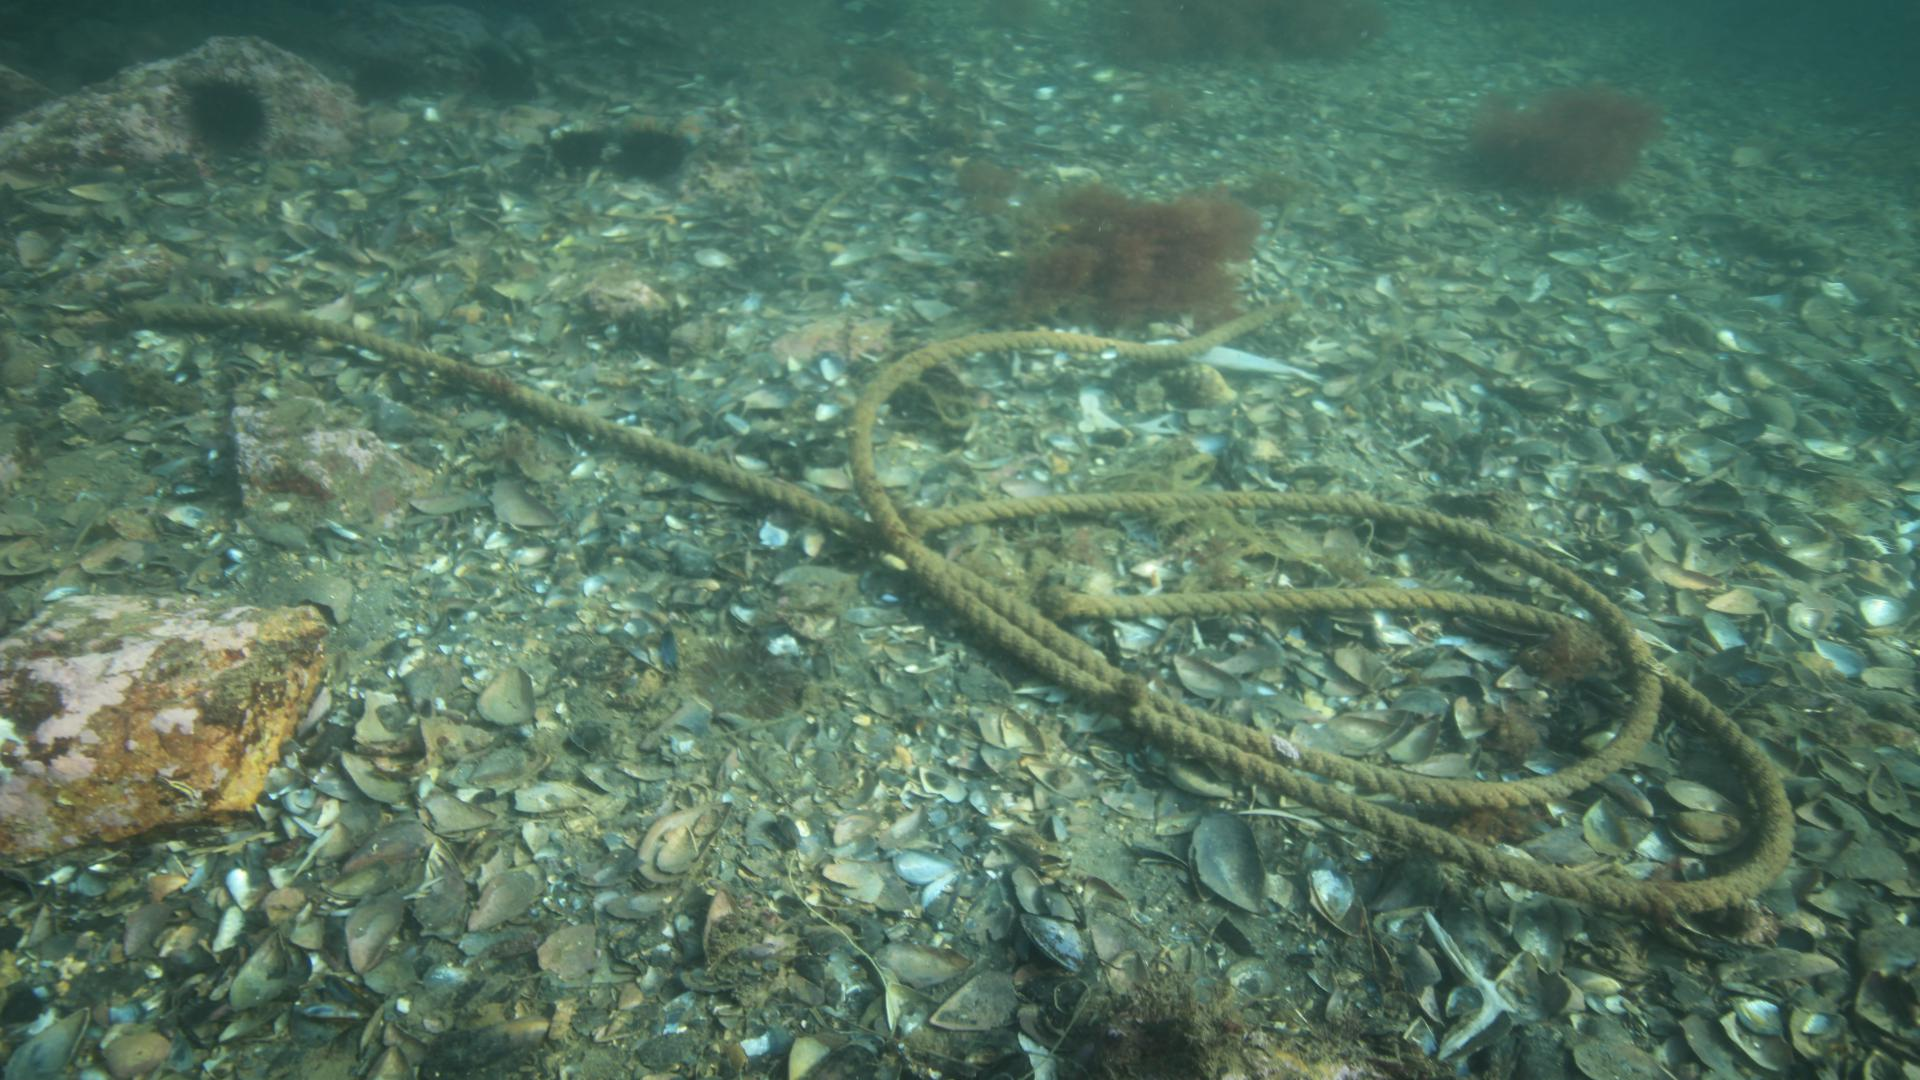bundle of ropes: (131, 295, 1804, 920)
